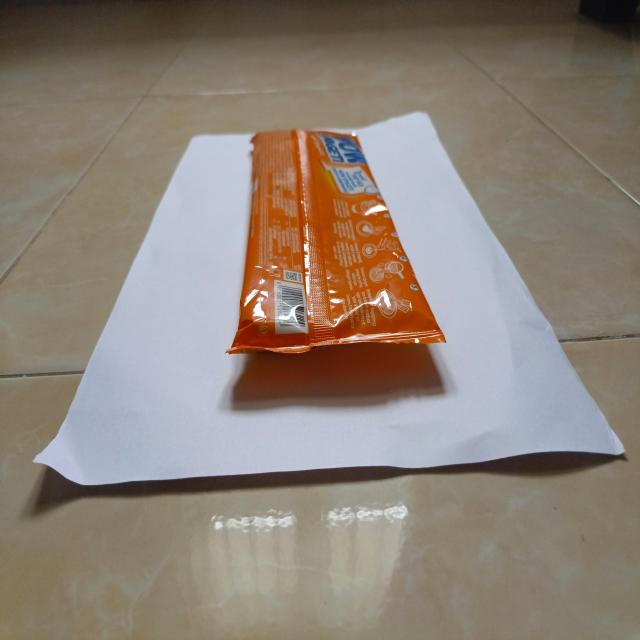indomie-tori-miso: (227, 130, 448, 353)
